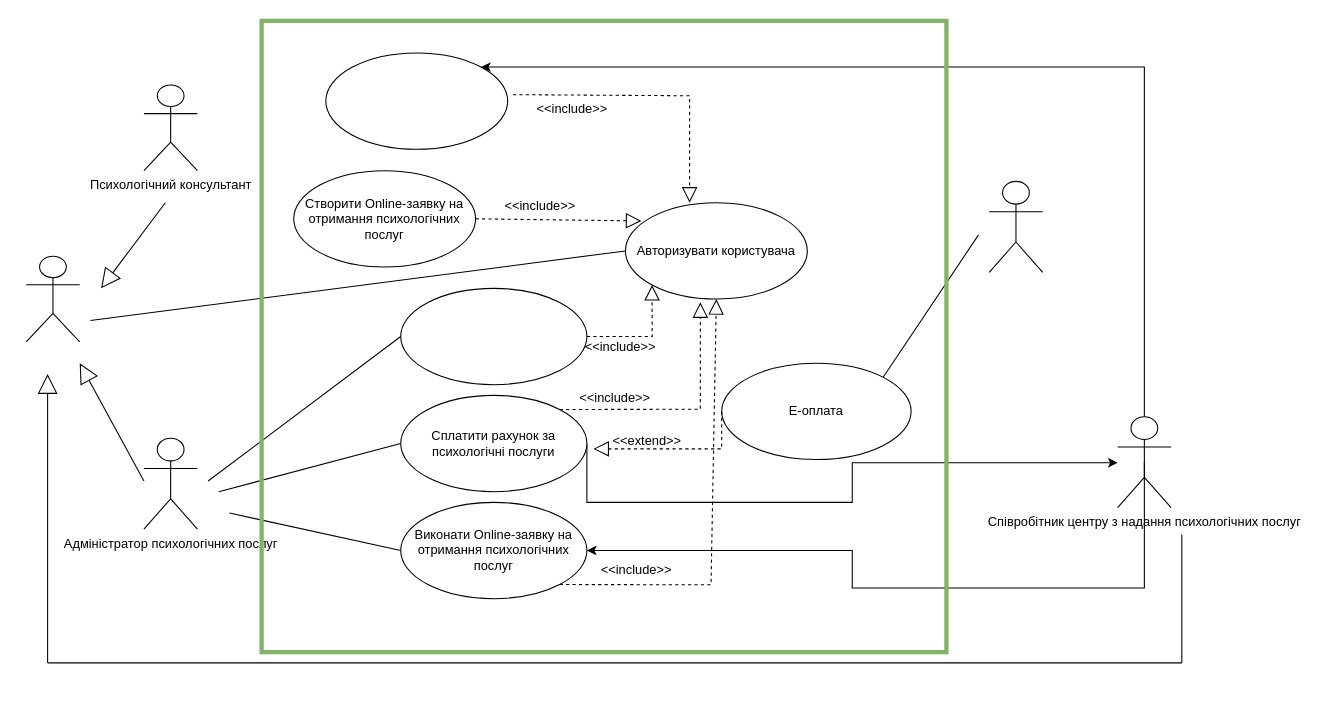
Image size: 1319x701. Some labels were removed from this diagram. The centre of each missing label's shape, as x and y in pixels:
Користувач: pixel 52 298
Об'єднати Online-заявку на отримання психологічних послуг: pixel 493 336
Отримати план покращення психологічного стану: pixel 416 100
Сервіс Е-оплата: pixel 1015 226
